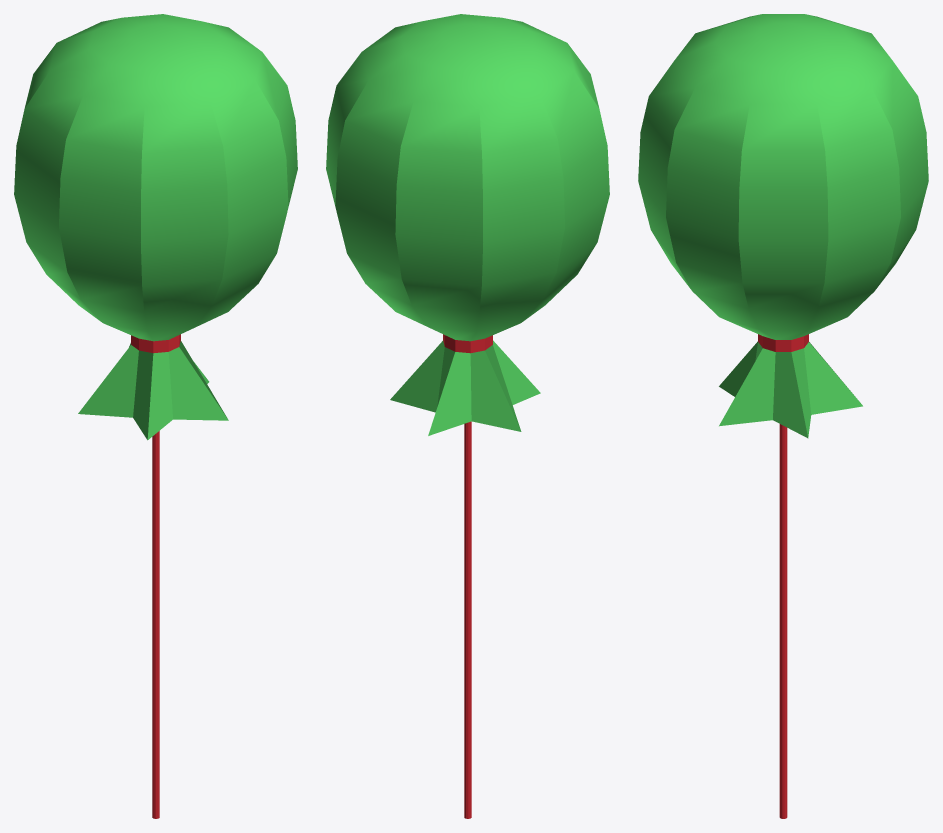
Rendered from VR_Globo.fbx.
3 views of the same model, side by side, from view 1: azimuth 30°, elevation 25°; view 2: azimuth 150°, elevation 25°; view 3: azimuth 270°, elevation 25° (orthographic).
Parts seen in each view (by area): view 1: globo; view 2: globo; view 3: globo.
Part boxes in pixels (x1,y1,x2,y2): globo: [14, 14, 297, 818]; globo: [326, 14, 609, 818]; globo: [638, 14, 928, 818].
Size of the model in its own units: 130 by 408 by 137.
